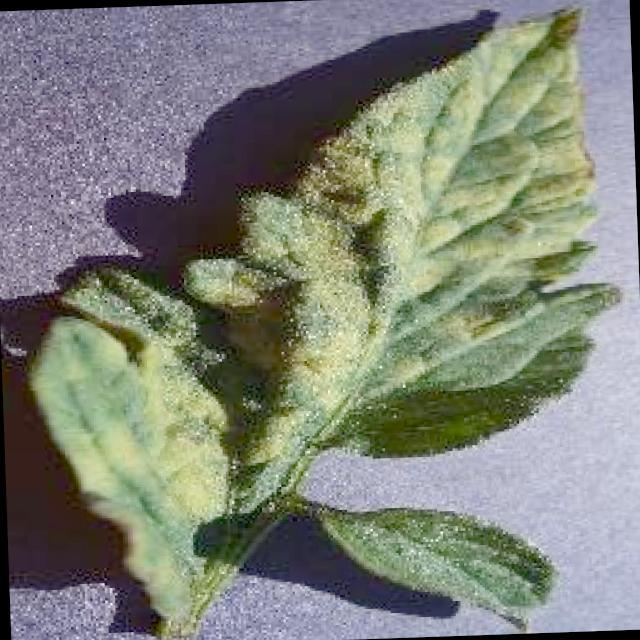Tomato mold leaf: (19, 2, 631, 640)
